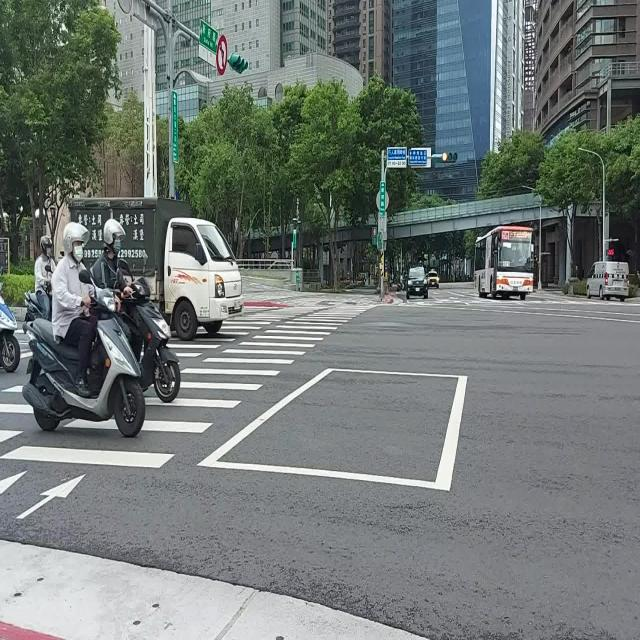bus: (474, 224, 534, 300)
car: (586, 260, 630, 301), (406, 267, 428, 300), (426, 269, 440, 288)
crosswalk: (0, 303, 377, 468), (168, 307, 329, 362), (0, 381, 33, 444)
motocycle: (22, 289, 145, 438), (120, 276, 180, 402), (0, 296, 20, 371), (22, 291, 42, 333)
trunk: (70, 198, 244, 340)
